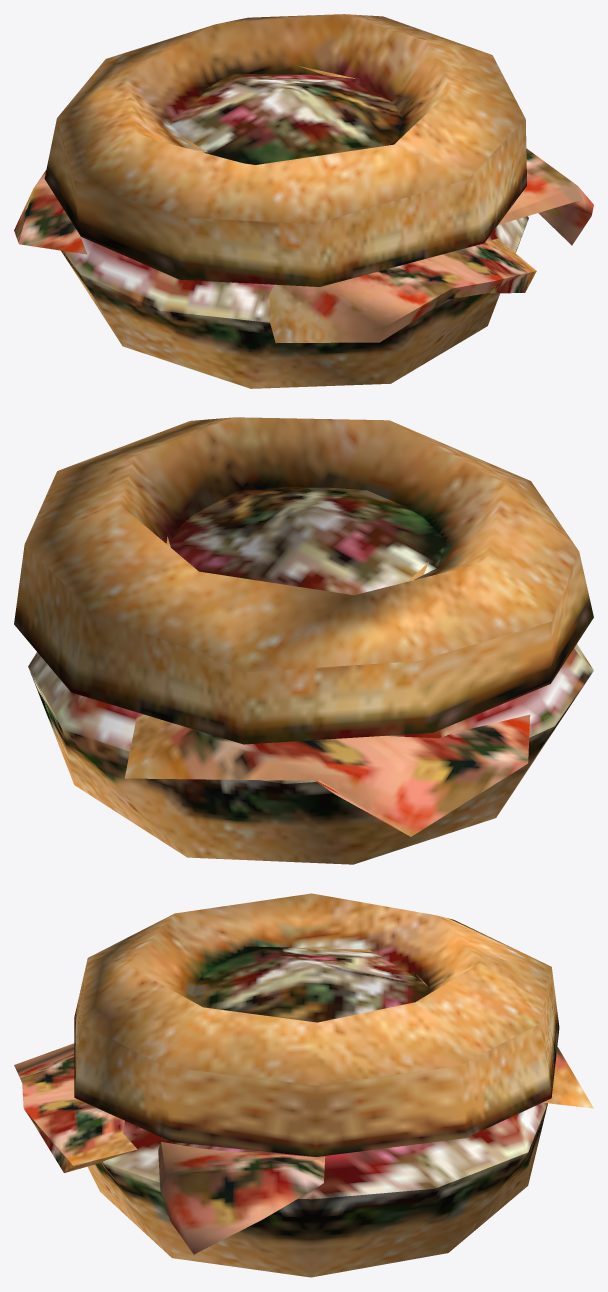
File: edb_food_sandwich_s1_l0.fbx
The picture shows the model from 3 angles, top to bottom: view 1: azimuth 30°, elevation 25°; view 2: azimuth 150°, elevation 25°; view 3: azimuth 270°, elevation 25°; orthographic projection. The views are drawn at different scales.
Parts seen in each view (by area): view 1: mesh_node; view 2: mesh_node; view 3: mesh_node.
Part boxes in pixels (x1,y1,x2,y2): mesh_node: [14, 14, 593, 388]; mesh_node: [14, 417, 593, 864]; mesh_node: [14, 893, 593, 1277].
Size of the model in its own units: 0.2158 by 0.1033 by 0.2217.
Materials: 1 (1 with a texture image).
